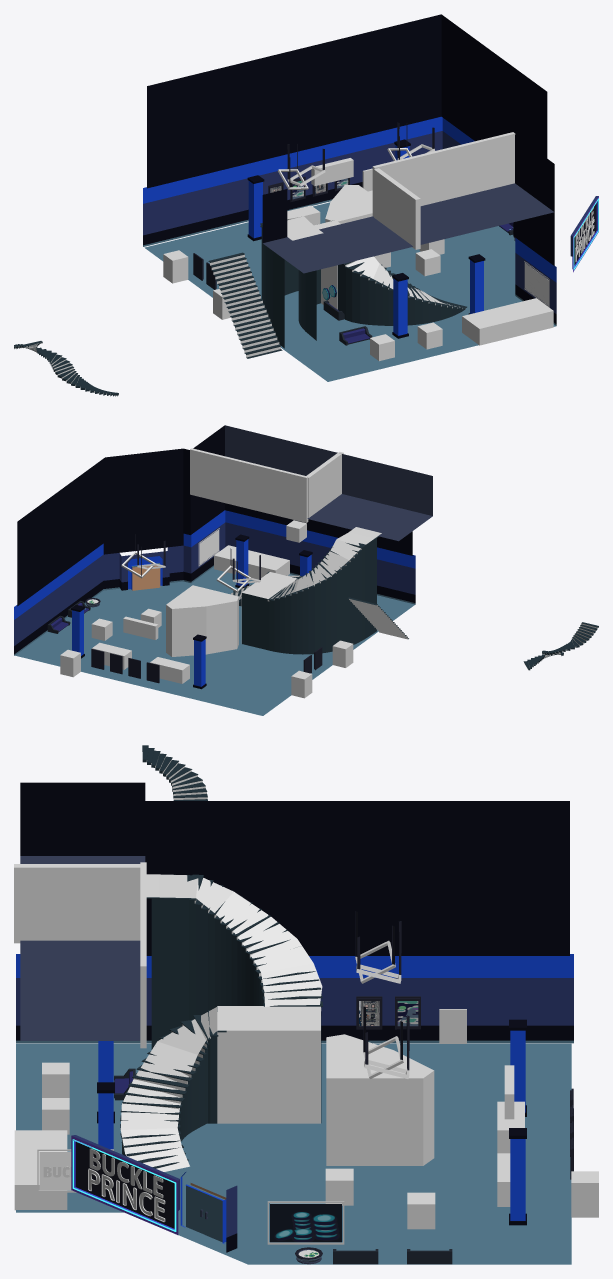
Rendered from INT_CasinoTest.fbx.
3 views of the same model, one above another, from view 1: azimuth 30°, elevation 25°; view 2: azimuth 150°, elevation 25°; view 3: azimuth 270°, elevation 25° (orthographic). The views are drawn at different scales.
Parts seen in each view (by area): view 1: Cube.2306, Cube.2308, Cube.080, Stairs.001, Cube.082, Stairs.003, Cube.075, Cube.081, Cube.068, Stairs.002, Cube.2312, Cube.2314 (+12 smaller); view 2: Cube.2306, Cube.2308, Stairs.003, Cube.080, Cube.068, StairRamps.001, Cube.081, Stairs.001, Cube.075, Cube.082, Cube.084, Stairs.002 (+16 smaller); view 3: Cube.2306, Cube.2308, Stairs.003, Cube.084, Cube.068, Cube.081, StairRamps.001, StairRamps, Stairs.001, Cube.083, Cube.1922, Cube.075 (+23 smaller).
Part boxes in pixels (x1,y1,x2,y2): Cube.2306: [143, 14, 556, 325]; Cube.2308: [144, 202, 556, 381]; Cube.080: [372, 132, 515, 216]; Stairs.001: [331, 220, 466, 325]; Cube.082: [208, 252, 282, 358]; Stairs.003: [260, 219, 320, 348]; Cube.075: [462, 298, 553, 345]; Cube.081: [374, 168, 420, 249]; Cube.068: [325, 185, 390, 267]; Stairs.002: [14, 341, 118, 396]; Cube.2312: [392, 273, 408, 338]; Cube.2314: [247, 175, 264, 241]; Cube.2306: [14, 425, 432, 655]; Cube.2308: [15, 567, 414, 715]; Stairs.003: [267, 536, 378, 654]; Cube.080: [190, 448, 308, 522]; Cube.068: [166, 585, 238, 656]; StairRamps.001: [271, 527, 381, 598]; Cube.081: [306, 451, 343, 517]; Stairs.001: [233, 571, 301, 649]; Cube.075: [214, 545, 289, 579]; Cube.082: [348, 597, 408, 639]; Cube.084: [241, 572, 297, 643]; Stairs.002: [523, 622, 598, 670]; Cube.2306: [16, 782, 573, 1252]; Cube.2308: [16, 1043, 571, 1264]; Stairs.003: [146, 874, 322, 1049]; Cube.084: [217, 1006, 320, 1123]; Cube.068: [326, 1034, 434, 1165]; Cube.081: [14, 864, 140, 943]; StairRamps.001: [146, 874, 322, 1006]; StairRamps: [120, 1007, 217, 1171]; Stairs.001: [120, 1006, 321, 1168]; Cube.083: [71, 1135, 179, 1234]; Cube.1922: [267, 1201, 344, 1244]; Cube.075: [14, 1130, 67, 1210].
Size of the model in its own units: 7380 by 2061 by 4207.
